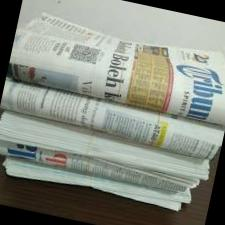Kertas: (6, 6, 225, 126), (0, 111, 211, 215)
